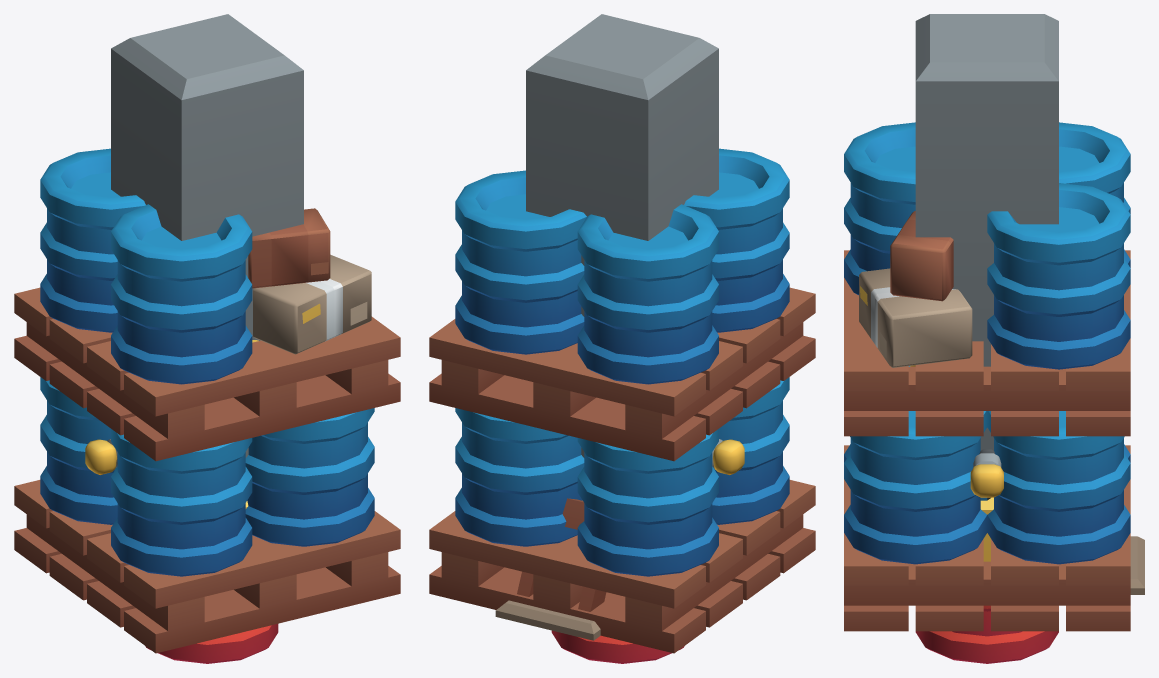
File: proto.glb
3 renders of one model, left to right at view 1: azimuth 30°, elevation 25°; view 2: azimuth 150°, elevation 25°; view 3: azimuth 270°, elevation 25°, orthographic.
Visible parts, largest first — view 1: Pallet_Small_Decorated_B, Pillar_B, Pallet_Small_Decorated_A, Barrel_A, Pillar_A, Dummy_ArmRight; view 2: Pallet_Small_Decorated_B, Pillar_B, Pallet_Small_Decorated_A, target_stand_A, Barrel_A, Pillar_A, Dummy_ArmRight; view 3: Pallet_Small_Decorated_B, Pillar_B, Pallet_Small_Decorated_A, Barrel_A, Pillar_A, Dummy_ArmLeft, target_stand_A.
Part boxes in pixels (box(x1,y1,x2,y2)): Pallet_Small_Decorated_B: box(14, 148, 400, 653); Pillar_B: box(111, 14, 303, 508); Pallet_Small_Decorated_A: box(15, 380, 400, 627); Barrel_A: box(145, 624, 278, 663); Pillar_A: box(169, 30, 245, 62); Dummy_ArmRight: box(85, 439, 117, 474); Pallet_Small_Decorated_B: box(429, 148, 815, 653); Pillar_B: box(526, 14, 718, 457); Pallet_Small_Decorated_A: box(429, 380, 814, 627); target_stand_A: box(495, 498, 606, 640); Barrel_A: box(551, 630, 684, 663); Pillar_A: box(584, 30, 660, 62); Dummy_ArmRight: box(712, 439, 744, 474); Pallet_Small_Decorated_B: box(844, 122, 1130, 631); Pillar_B: box(915, 14, 1058, 561); Pallet_Small_Decorated_A: box(844, 411, 1130, 579); Barrel_A: box(915, 605, 1058, 663); Pillar_A: box(958, 26, 1015, 50); Dummy_ArmLeft: box(970, 449, 1003, 497); target_stand_A: box(980, 497, 1144, 594).
Bounding box in the file's own units: 2 × 4.6 × 2.1.
1 material, 1 textured.
